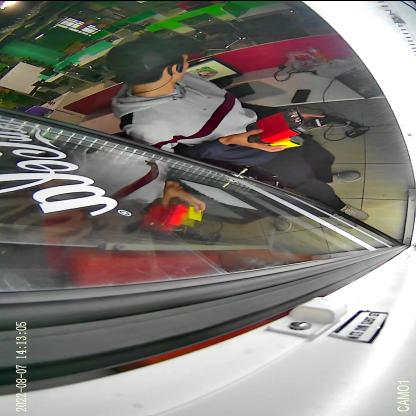red: (245, 107, 308, 143)
yellow: (261, 130, 307, 147)
